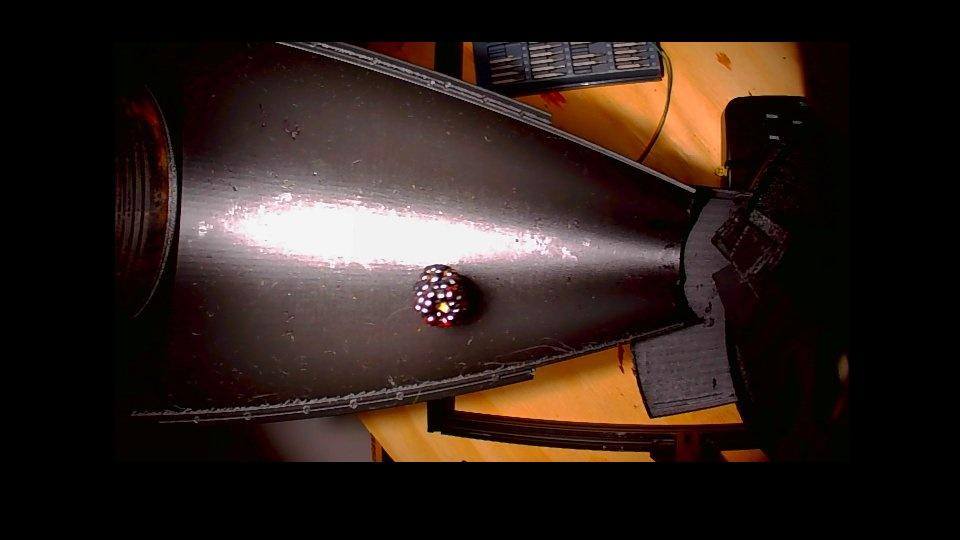berry: (414, 265, 471, 327)
